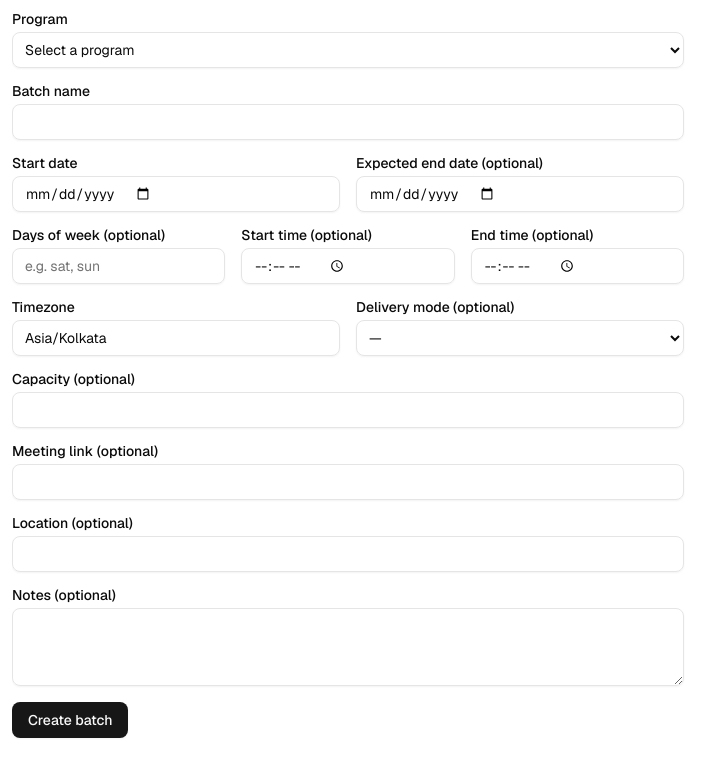
Test: BatchForm + createBatchAction: validation failure preserves the form › keeps every typed field after a date-range validation error instead of clearing the form
Step 1. Select "Full Stack Development (FSD-101)" in the dropdown labelled "Program" → x=348, y=50, box [12,32,684,68]
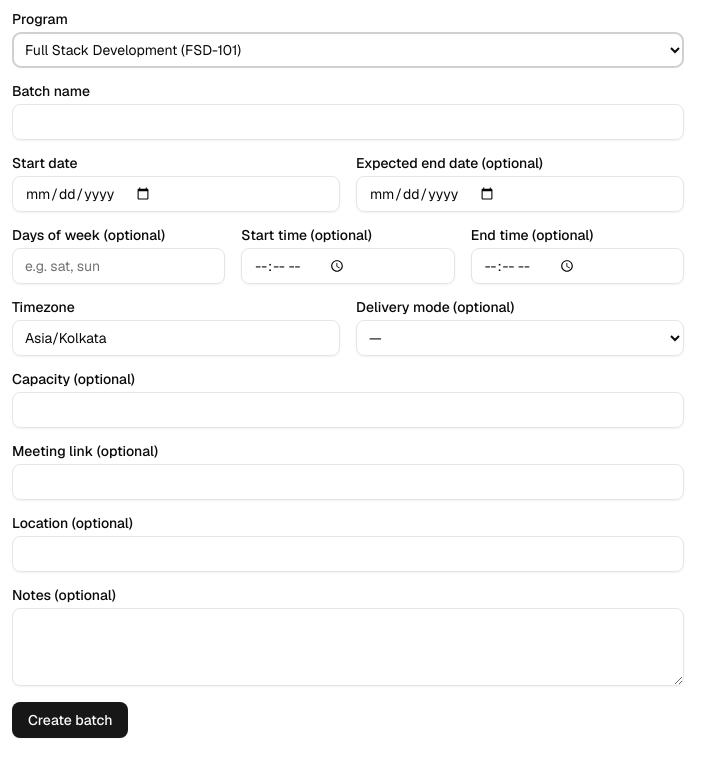
Step 2. Type "September 2026 Weekend Batch" into the field labelled "Batch name" → x=348, y=122, box [12,104,684,140]
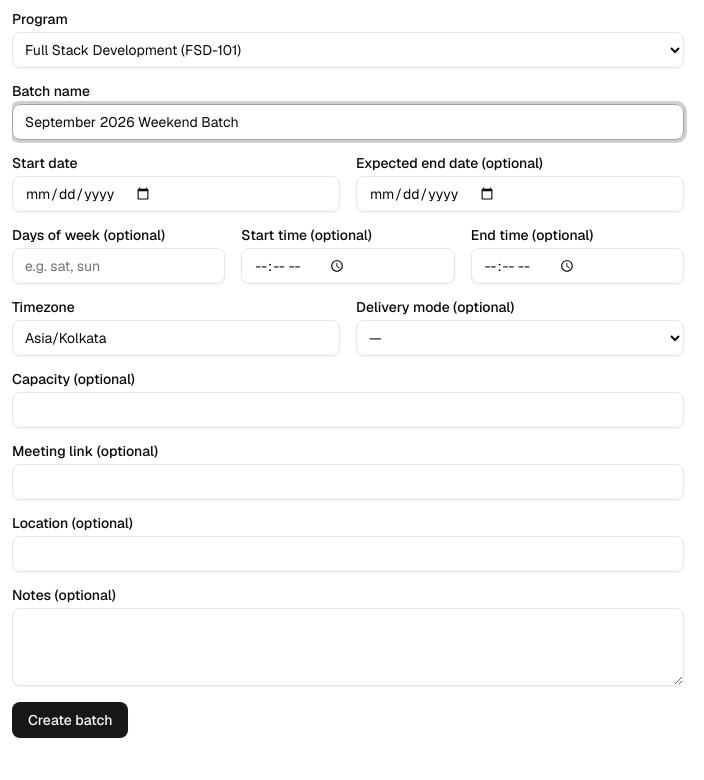
Step 3. Type "2026-09-01" into the date field labelled "Start date" → x=176, y=194, box [12,176,340,212]
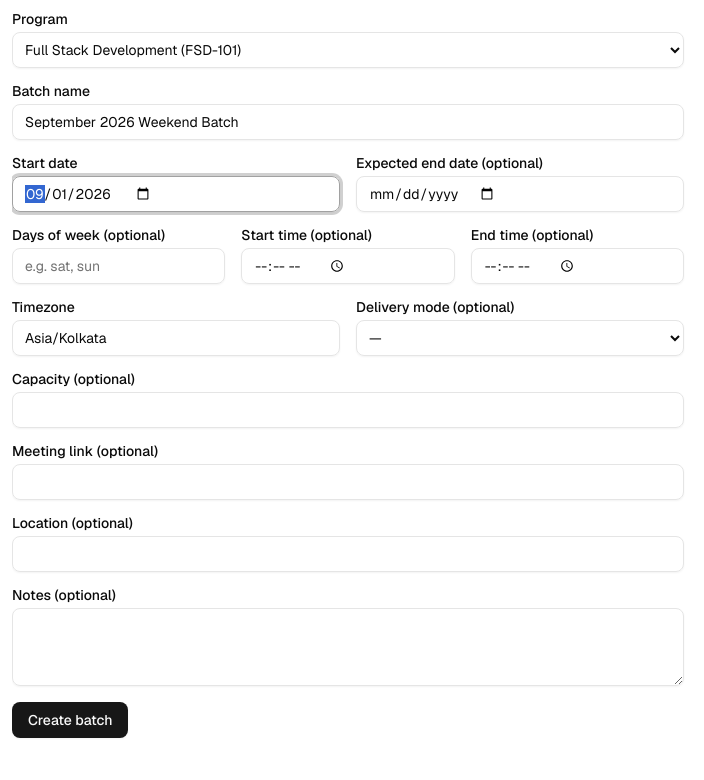
Step 4. Type "2026-08-01" into the date field labelled "Expected end date (optional)" → x=520, y=194, box [356,176,684,212]
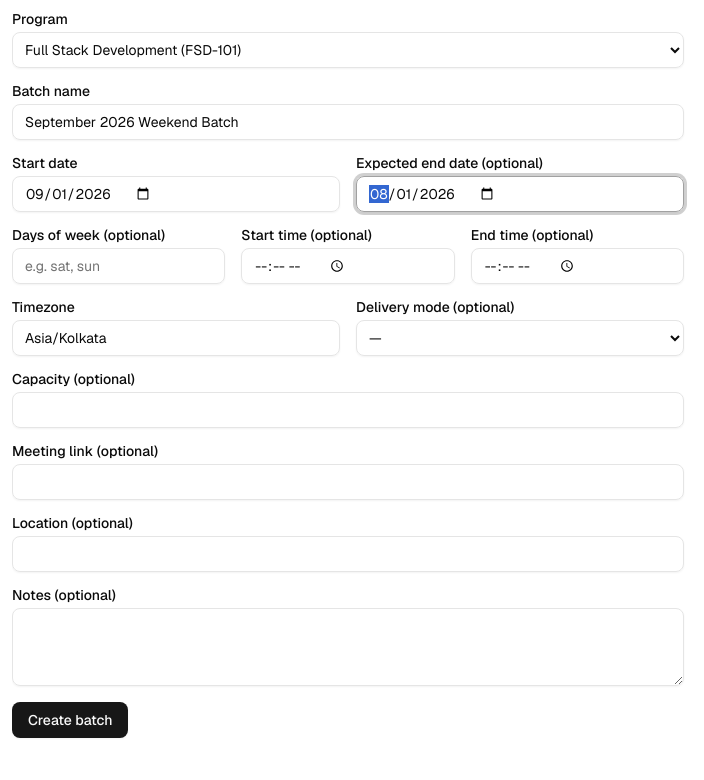
Step 5. Click the button "Create batch" → x=70, y=720, box [12,702,128,738]
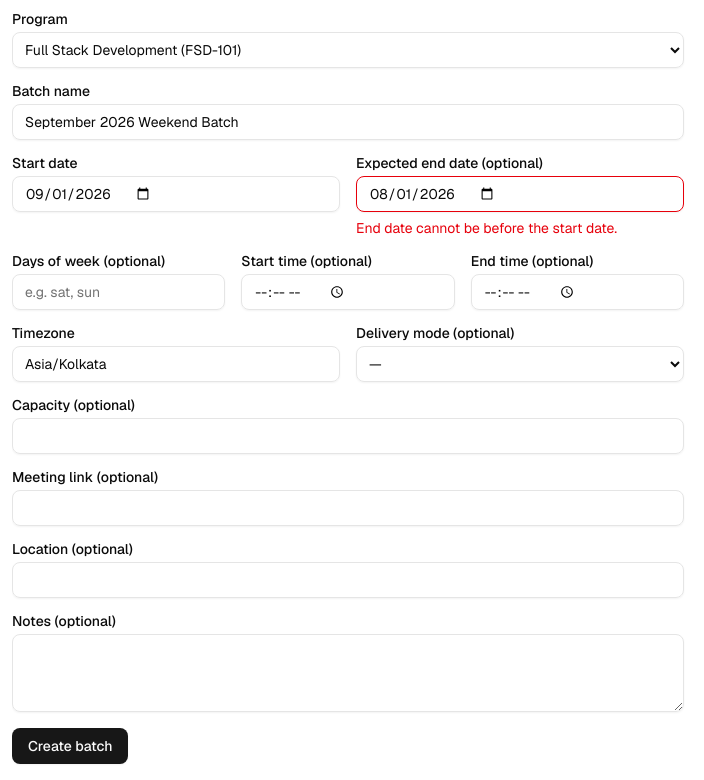
Expected: the field labelled "Batch name" holds "September 2026 Weekend Batch", [12,104,684,140]
Expected: the date field labelled "Start date" holds "2026-09-01", [12,176,340,212]
Expected: the text "End date cannot be before the start date." is shown, [356,219,617,237]
